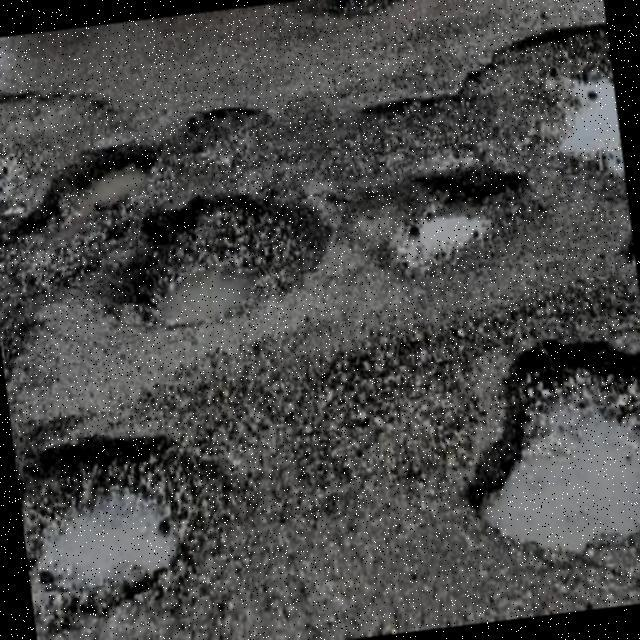Pothole: (355, 23, 624, 175), (0, 145, 156, 384), (469, 342, 640, 553), (17, 438, 194, 627), (115, 195, 332, 331), (344, 169, 524, 273), (0, 93, 123, 216)
